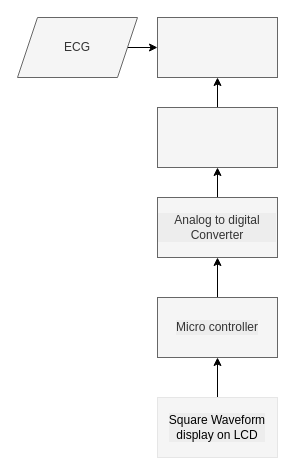
Image size: 295x475. Some labels were removed from this diagram. Here are the shapes that lost their labels. From the top down, the centre of each, then its label:
[217,47]: Heart Beat Analog Value
[217,137]: Detect Peaks
